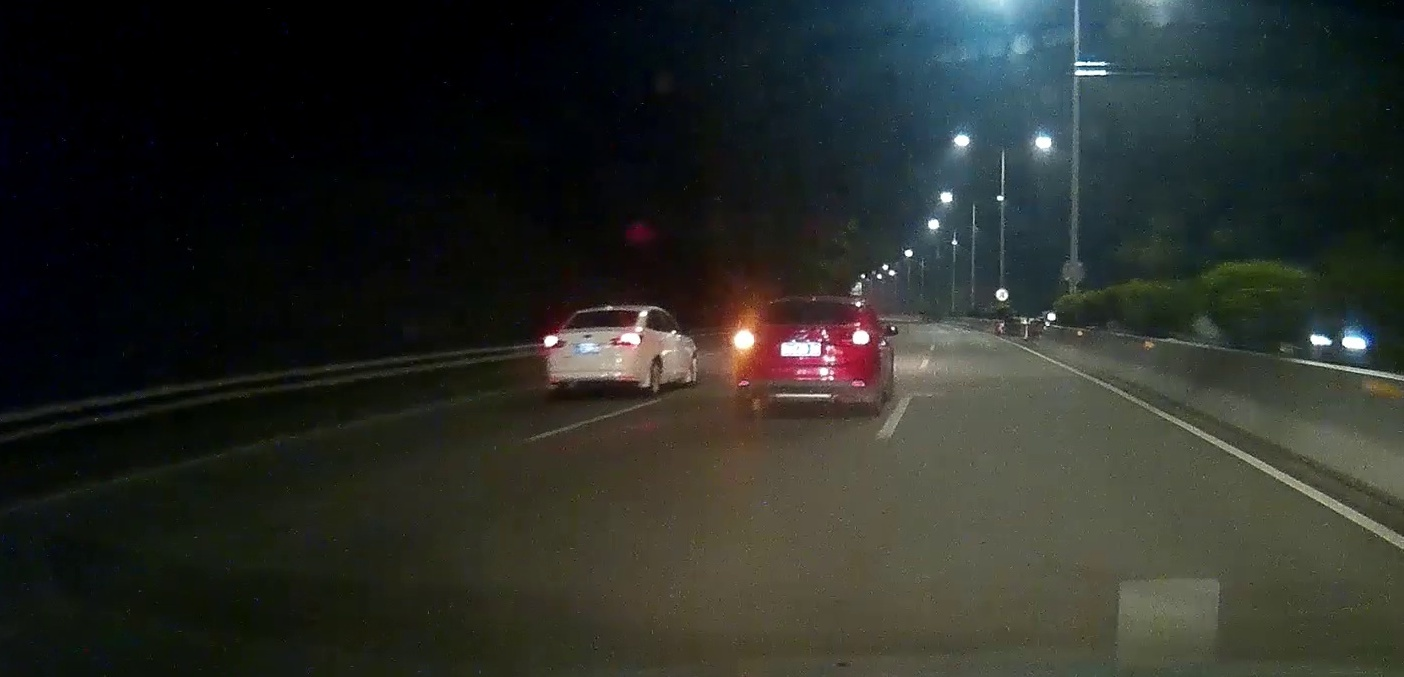L_light: (736, 334, 757, 350), (547, 336, 567, 347)
R_light: (846, 329, 870, 346), (611, 334, 642, 347)
T_light: (802, 302, 821, 307), (600, 311, 614, 315)
night-left: (734, 294, 877, 414)
night-no: (546, 305, 645, 398)
